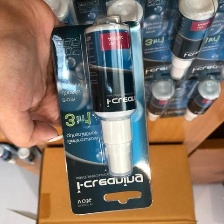book: (45, 15, 153, 218), (33, 136, 198, 224)
cleaning_solution: (80, 20, 139, 178), (165, 0, 220, 82), (107, 0, 145, 82), (179, 76, 223, 123), (144, 78, 174, 122), (13, 144, 38, 166), (0, 142, 16, 166)
